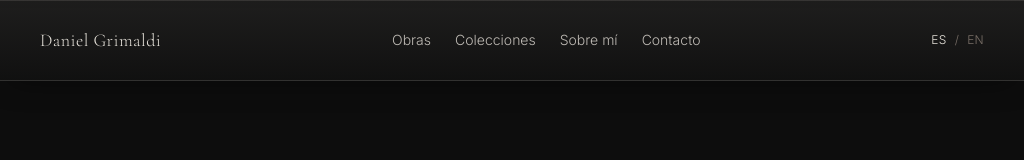
Test: Navbar › renders nav items in English after toggling language
What coordinates should you click on to do the following:
click the button "EN"
I would click on:
 (976, 40)
Its box is [967,32,984,48].
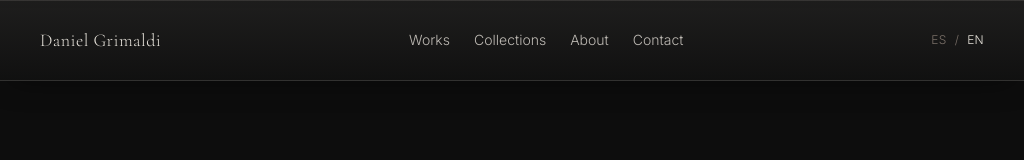
expect the link "Contact" is shown: met, box [633,30,684,50]
expect the link "Works" is shown: met, box [409,30,450,50]
expect the link "About" is shown: met, box [570,30,609,50]
